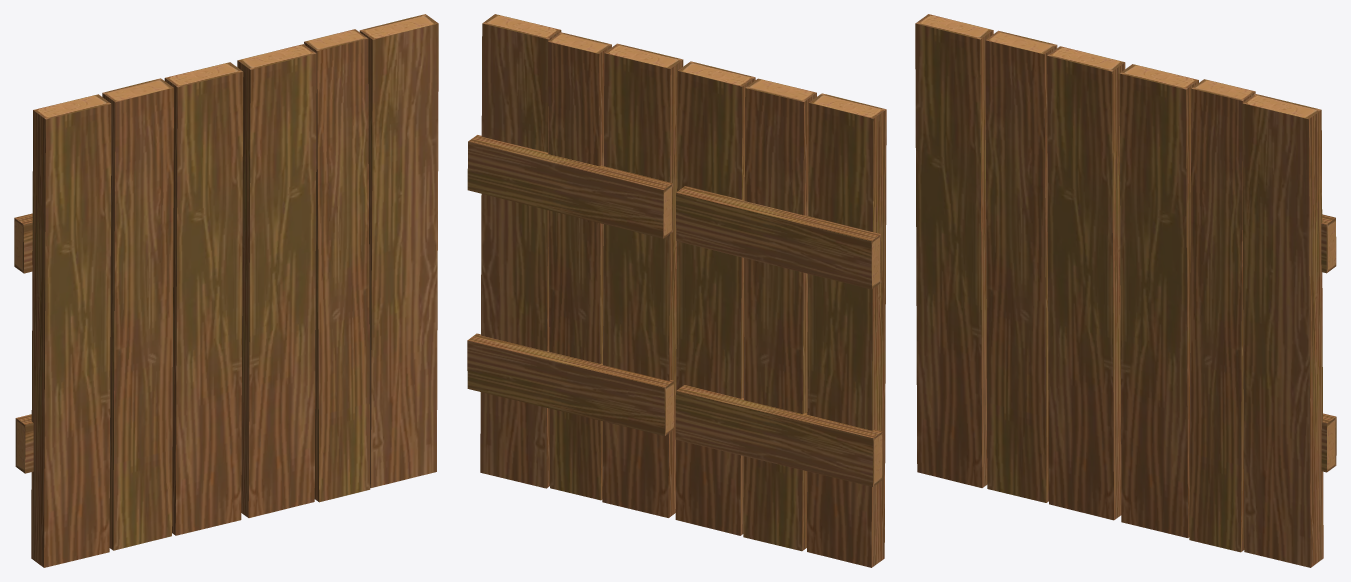
File: windowshutters_wide_flat_closed.glb
3 views of the same model, side by side, from view 1: azimuth 30°, elevation 25°; view 2: azimuth 150°, elevation 25°; view 3: azimuth 330°, elevation 25° (orthographic).
Size of the model in its own units: 1.35 by 1.42 by 0.1358.
1 material, 1 textured.
